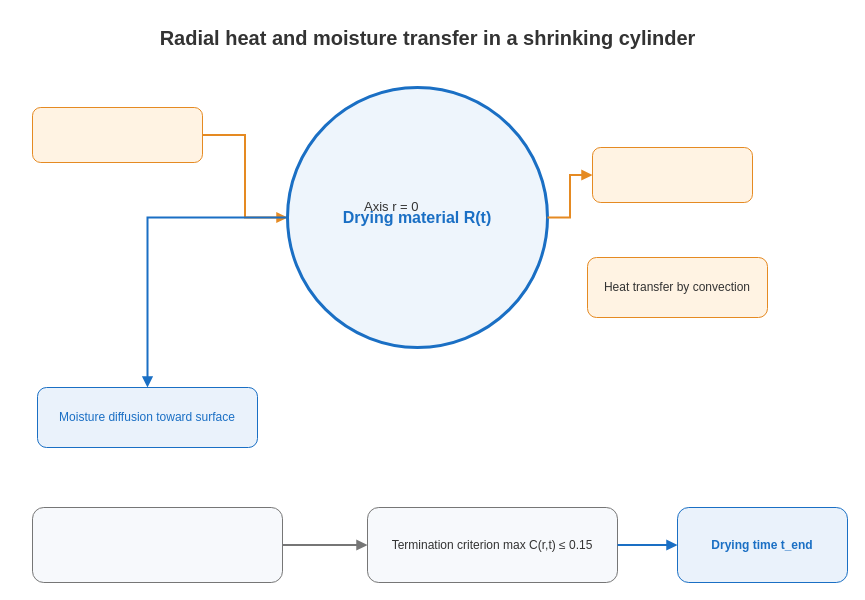
The diagram is 865 pixels wide and 600 high, and some of its shapes have lost their labels. The shapes that lost their labels are listed below. From the top down, each one's centre as x and y in pixels, then its label:
At [117,134]: "Hot drying air".
At [672,174]: "Moving surface R(t)".
At [157,544]: "State variables T(r,t), C(r,t), R(t)".
